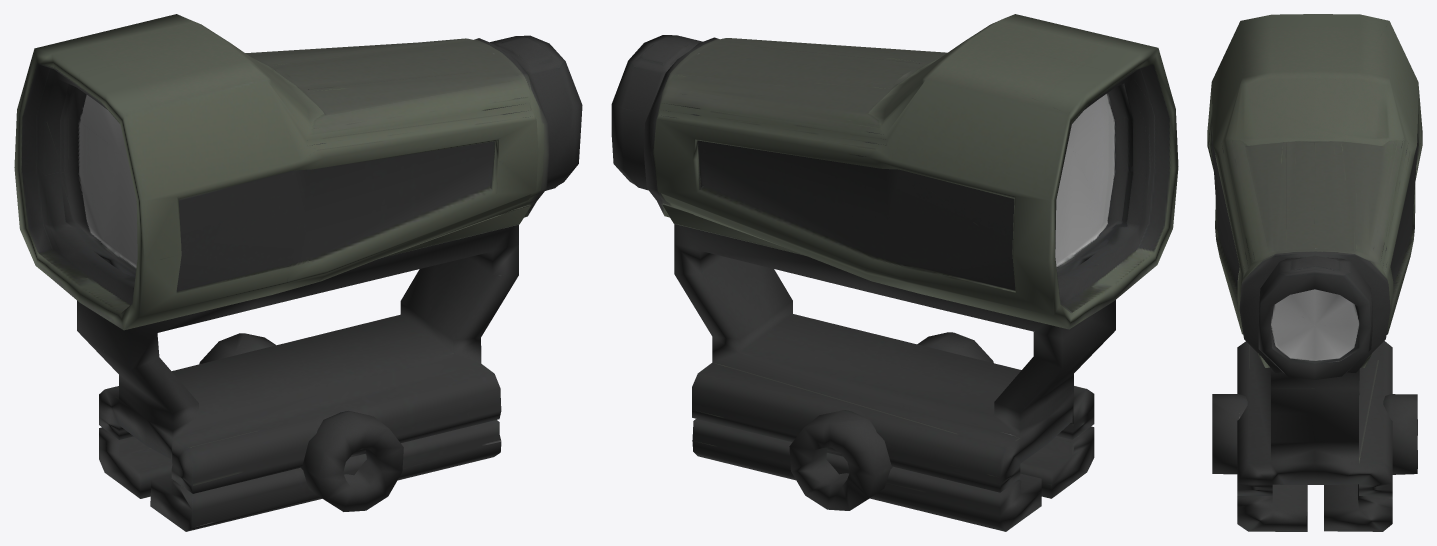
Rendered from sight_reflex_open.glb.
The picture shows the model from 3 angles, left to right: view 1: azimuth 30°, elevation 25°; view 2: azimuth 150°, elevation 25°; view 3: azimuth 270°, elevation 25°; orthographic projection. The views are drawn at different scales.
Size of the model in its own units: 0.9565 by 0.8662 by 0.4585.
Materials: 1 (1 with a texture image).
